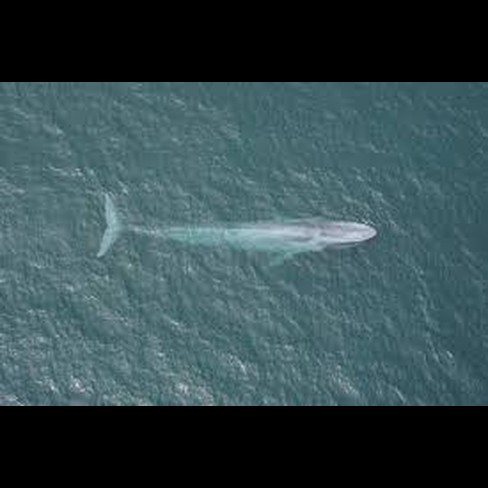bluewhale: (94, 191, 379, 267)
